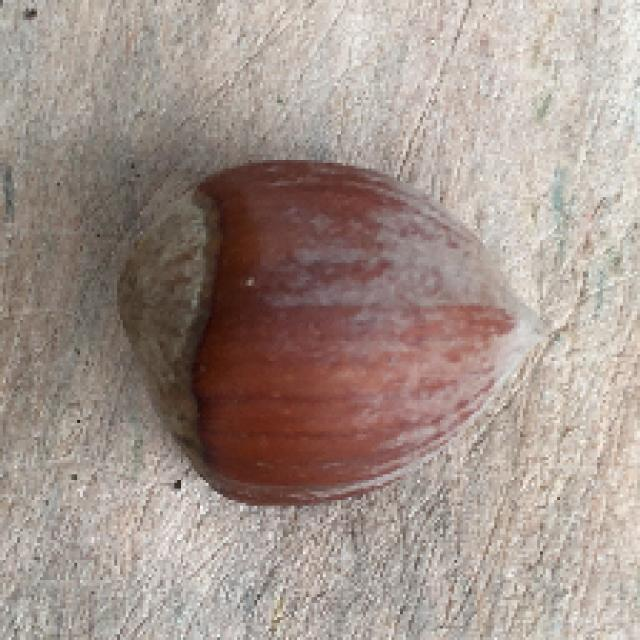qualityHazelnut: (110, 148, 549, 513)
